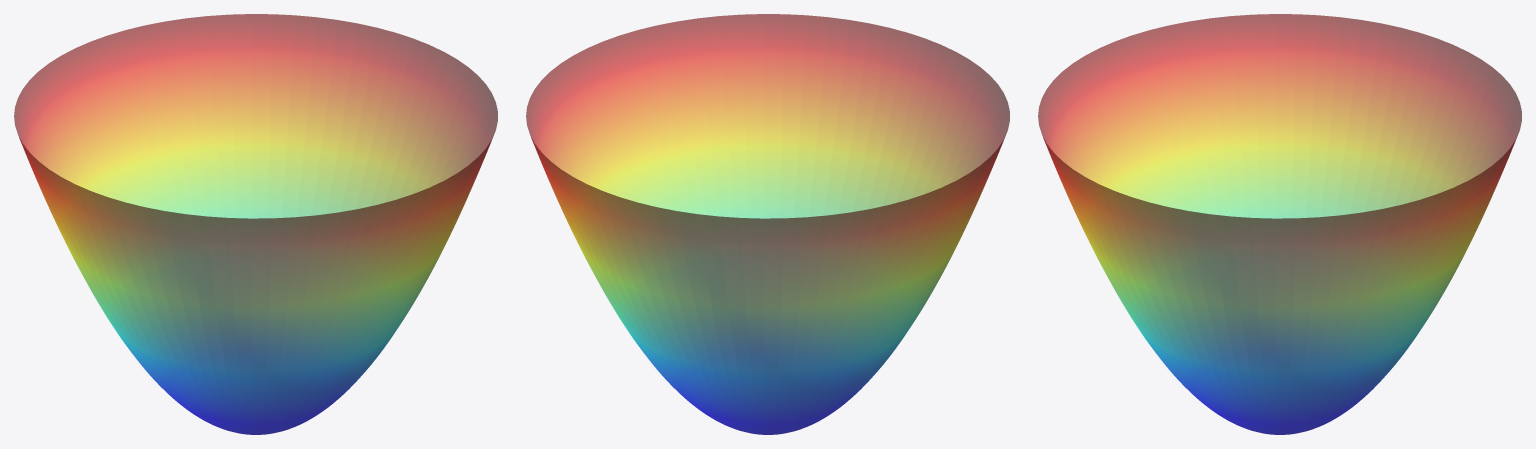
File: paraboloide.gltf
The picture shows the model from 3 angles, left to right: view 1: azimuth 30°, elevation 25°; view 2: azimuth 150°, elevation 25°; view 3: azimuth 270°, elevation 25°; orthographic projection.
Parts seen in each view (by area): view 1: Renderer Node; view 2: Renderer Node; view 3: Renderer Node.
Boxes of the visible parts, x1,y1,x2,y2 form: Renderer Node: [14, 14, 497, 434]; Renderer Node: [526, 14, 1009, 434]; Renderer Node: [1038, 14, 1521, 434].
Size of the model in its own units: 2.83 by 2 by 2.83.
1 material, 1 textured.
